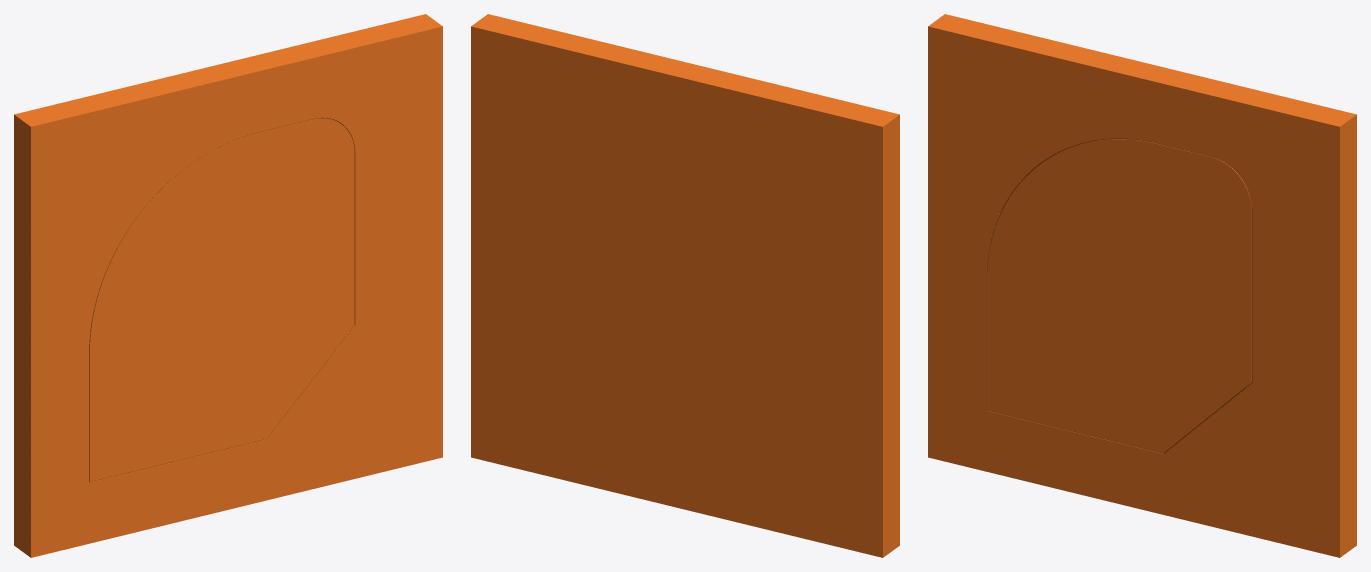
The model's file is cncMilling.glb.
3 views of the same model, side by side, from view 1: azimuth 30°, elevation 25°; view 2: azimuth 150°, elevation 25°; view 3: azimuth 330°, elevation 25° (orthographic).
Size of the model in its own units: 70 by 70 by 5.
